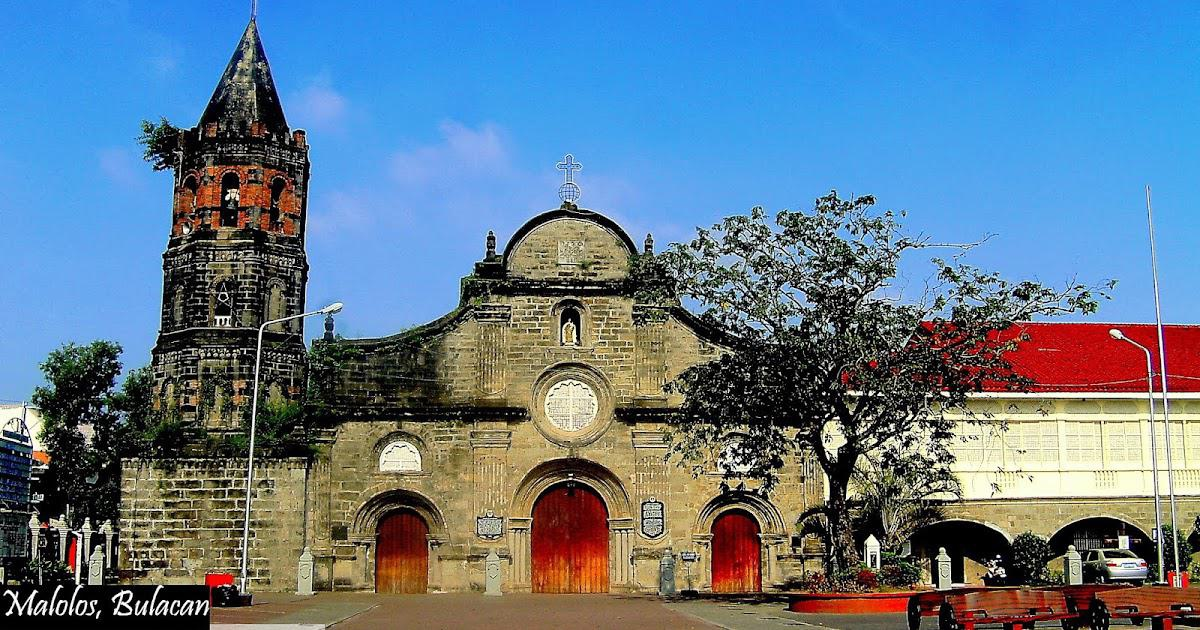barasoain_church_malolos_bulacan: (118, 3, 828, 594)
